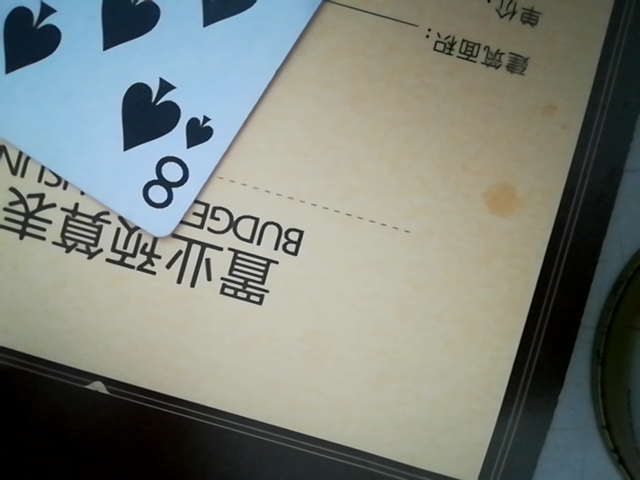ht 8: (5, 3, 381, 232)
